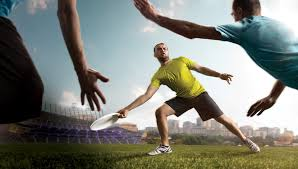disc: (89, 112, 120, 132)
